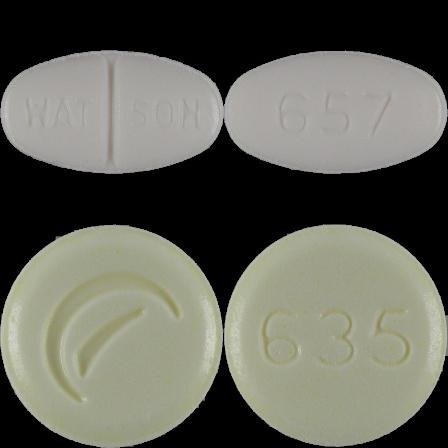68788-0053: (0, 0, 224, 224)
